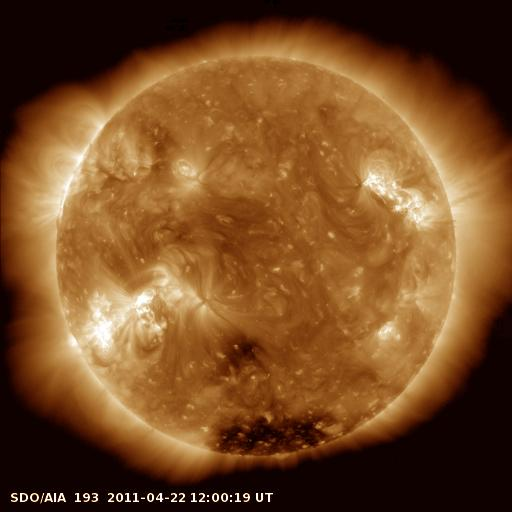coronal_hole: (204, 412, 344, 458), (208, 323, 273, 372)
